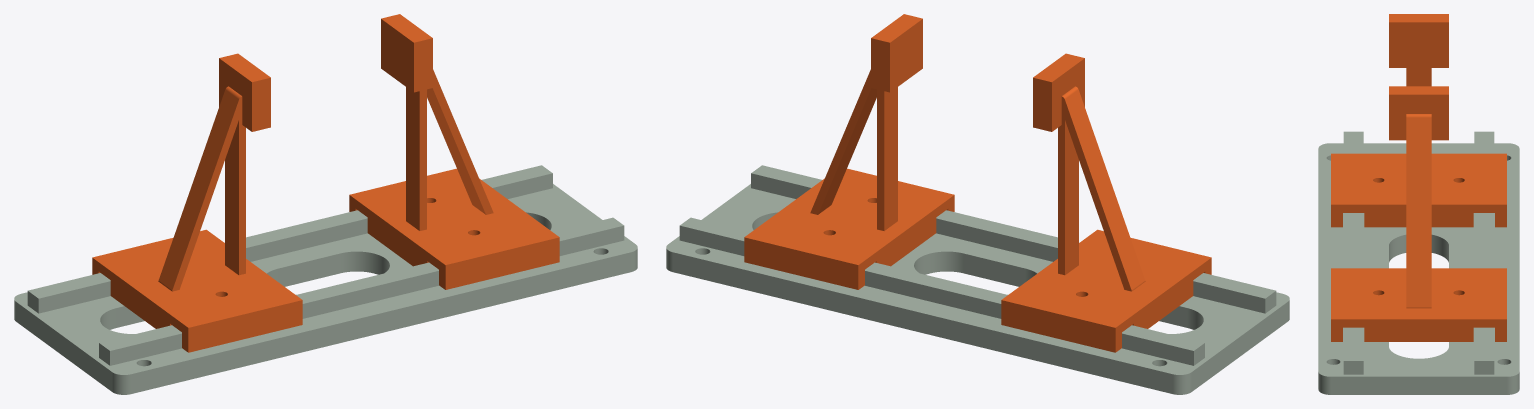
3 renders of one model, left to right at view 1: azimuth 30°, elevation 25°; view 2: azimuth 150°, elevation 25°; view 3: azimuth 270°, elevation 25°, orthographic. The views are drawn at different scales.
Parts seen in each view (by area): view 1: base, left, right; view 2: base, left, right; view 3: base, right, left.
Boxes of the visible parts, x1,y1,x2,y2 form: base: (14,165,637,394); left: (92,53,302,352); right: (349,14,559,289); base: (666,165,1289,394); left: (1001,53,1211,352); right: (744,14,954,289); base: (1318,131,1519,394); right: (1331,86,1506,341); left: (1331,14,1506,227).
Size of the model in its own units: 220 by 98.3 by 80.
